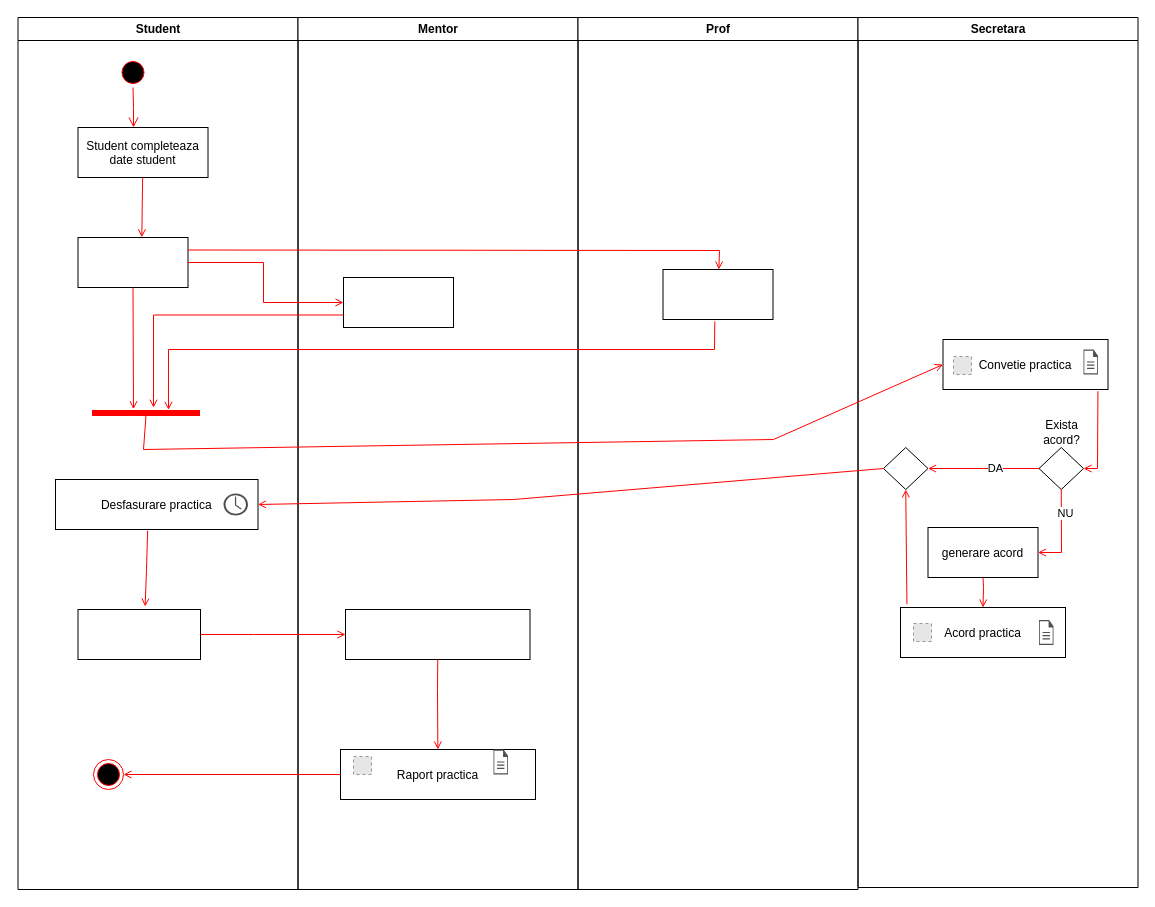
Some shapes in this 1155 by 907 pixel diagram are drawn without their labels. Grey dashed boxes stand in for pictures. Here are the shapes that lost their labels. From the top down, the centre of each, then its label:
At point 132,72: "Student creeaza practica noua".
At point 132,262: "student specifica email prof+mentor".
At point 398,302: "mentor completeaza date mentor".
At point 717,294: "prof completeaza date prof".
At point 138,634: "Request raport".
At point 437,634: "Completeaza date raport".
